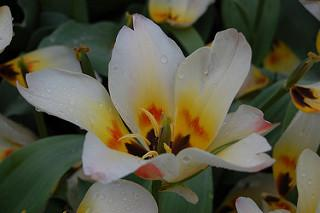tulip: (16, 12, 276, 186)
